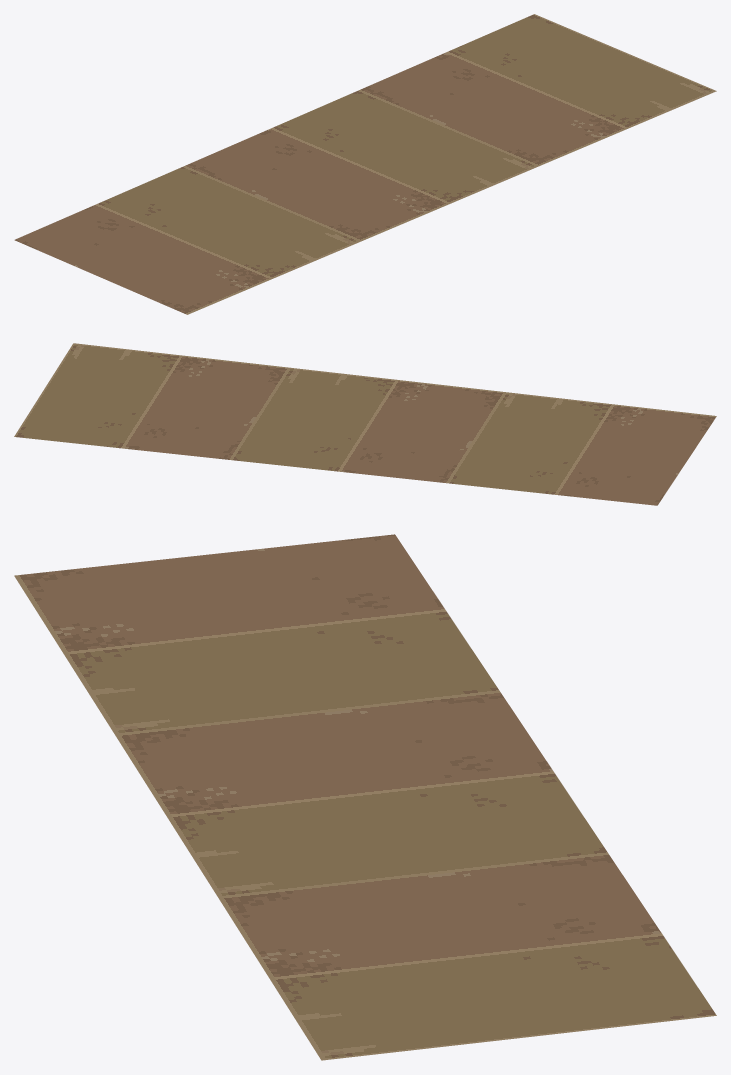
Rendered from kd_connection_town-ground_surface_2_3.glb.
3 views of the same model, one above another, from view 1: azimuth 30°, elevation 25°; view 2: azimuth 150°, elevation 25°; view 3: azimuth 270°, elevation 25° (orthographic). The views are drawn at different scales.
Parts seen in each view (by area): view 1: kd_connection_town-ground_surface_2_3; view 2: kd_connection_town-ground_surface_2_3; view 3: kd_connection_town-ground_surface_2_3.
Boxes of the visible parts, bbox=[...] form: kd_connection_town-ground_surface_2_3: bbox=[14, 14, 716, 314]; kd_connection_town-ground_surface_2_3: bbox=[14, 343, 716, 505]; kd_connection_town-ground_surface_2_3: bbox=[14, 534, 716, 1060].
Bounding box in the file's own units: 11.88 × 4.77e-07 × 6.71.
1 material, 1 textured.
